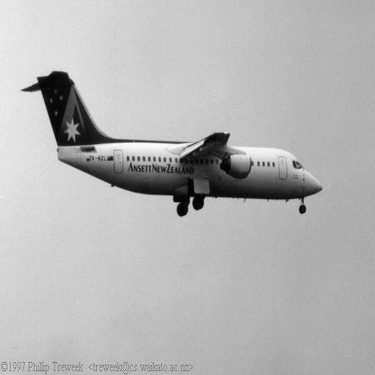airplane: (14, 63, 327, 220)
